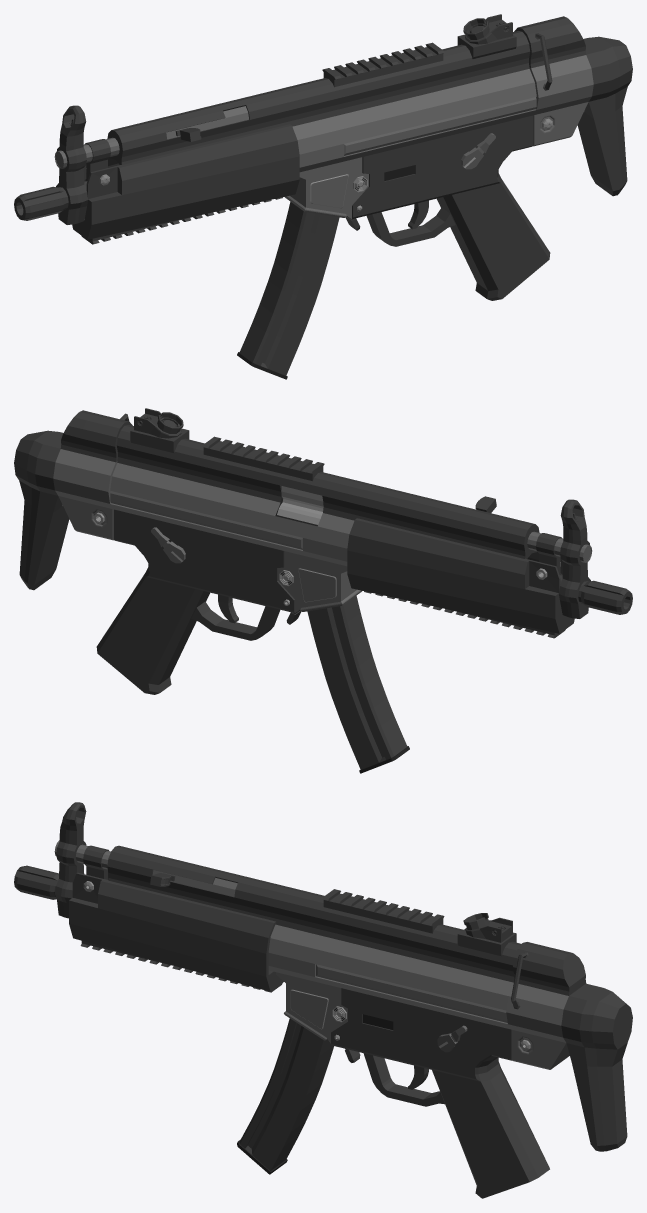
Rendered from MGP7_Rigged.fbx.
3 renders of one model, top to bottom at view 1: azimuth 30°, elevation 25°; view 2: azimuth 150°, elevation 25°; view 3: azimuth 330°, elevation 25°, orthographic.
Parts seen in each view (by area): view 1: MGP7, MGP7_Mag, MGP7_Stock, MGP7_CockingTubeHandle, MGP7_FireMode; view 2: MGP7, MGP7_Mag, MGP7_Stock, MGP7_BulletEject, MGP7_FireMode; view 3: MGP7, MGP7_Stock, MGP7_Mag, MGP7_CockingTubeHandle.
Boxes of the visible parts, x1,y1,x2,y2 form: MGP7: (14, 14, 593, 300); MGP7_Mag: (237, 202, 339, 379); MGP7_Stock: (344, 36, 632, 196); MGP7_CockingTubeHandle: (166, 106, 248, 141); MGP7_FireMode: (461, 133, 495, 169); MGP7: (53, 408, 632, 694); MGP7_Mag: (307, 596, 409, 773); MGP7_Stock: (14, 430, 302, 590); MGP7_BulletEject: (277, 486, 323, 524); MGP7_FireMode: (151, 527, 185, 563); MGP7: (14, 802, 586, 1198); MGP7_Stock: (316, 964, 632, 1151); MGP7_Mag: (237, 1018, 333, 1174); MGP7_CockingTubeHandle: (150, 870, 237, 896).
Bounding box in the file's own units: 52.51 × 26.35 × 5.6.
